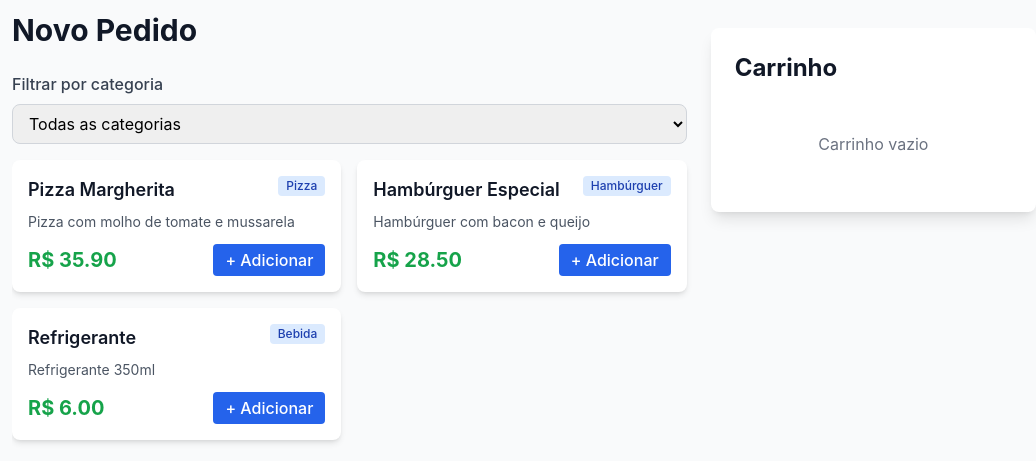
it: CriarPedidoPage › should decrease item quantity in cart
Expected: the heading "Pizza Margherita" is shown, [28, 176, 175, 204]
Click the button "+ Adicionar" next to "35.90" at (269, 260), box [213, 244, 325, 276]
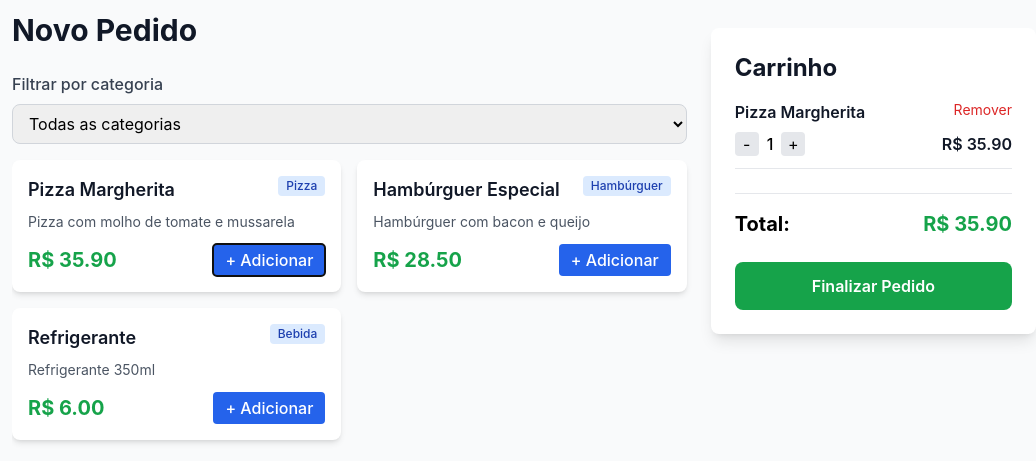
Expected: the button "+" is shown
Click the button "+" at (793, 144), box [781, 132, 805, 156]
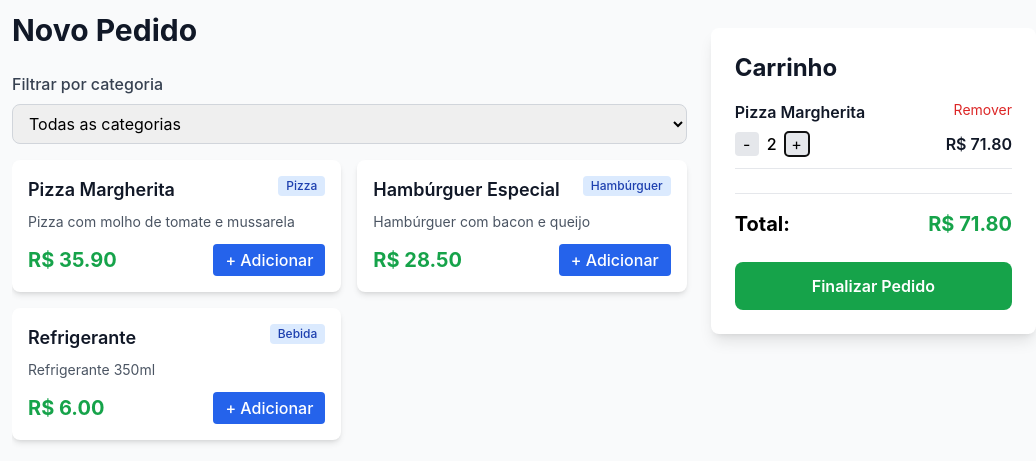
Click the button "-" at (747, 144), box [735, 132, 759, 156]
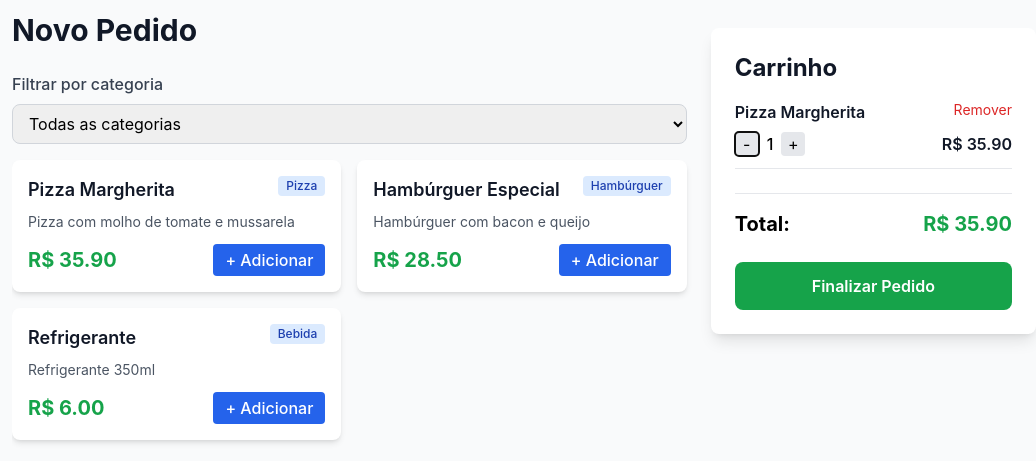
Expected: the text "1" is shown, [767, 132, 773, 156]
